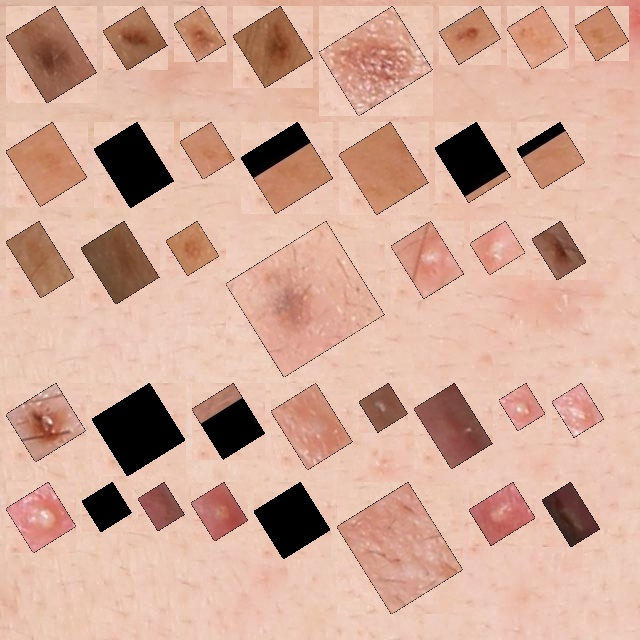hypertrophic_scar: (348, 493, 452, 603)
melasma: (103, 394, 174, 465), (252, 133, 322, 202), (350, 133, 417, 204), (105, 133, 163, 197), (17, 133, 76, 195), (92, 232, 148, 293), (446, 133, 499, 191), (203, 394, 254, 448), (17, 232, 63, 287), (528, 133, 574, 178), (518, 17, 557, 58), (191, 133, 224, 168), (586, 17, 618, 50)
nevus: (237, 232, 373, 366), (330, 17, 422, 105), (17, 17, 85, 92), (244, 17, 302, 76), (17, 394, 75, 451), (114, 17, 156, 59), (450, 17, 490, 53), (543, 232, 575, 269), (185, 17, 215, 50), (93, 493, 121, 521)
pustule: (282, 394, 341, 459), (425, 394, 481, 458), (402, 232, 453, 287), (17, 493, 65, 542), (480, 493, 524, 534), (553, 493, 589, 536), (202, 493, 237, 530), (481, 232, 514, 264), (563, 394, 593, 426), (370, 394, 397, 421), (149, 493, 173, 520), (510, 394, 534, 419)
